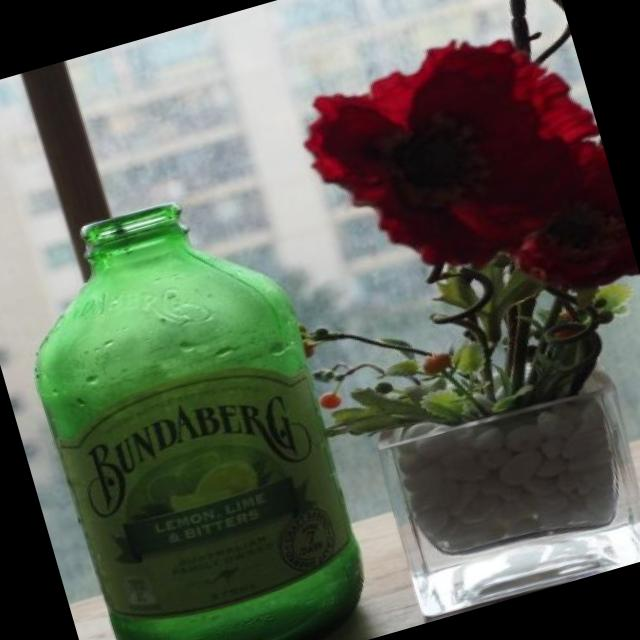BotolKaca: (0, 171, 386, 640)
